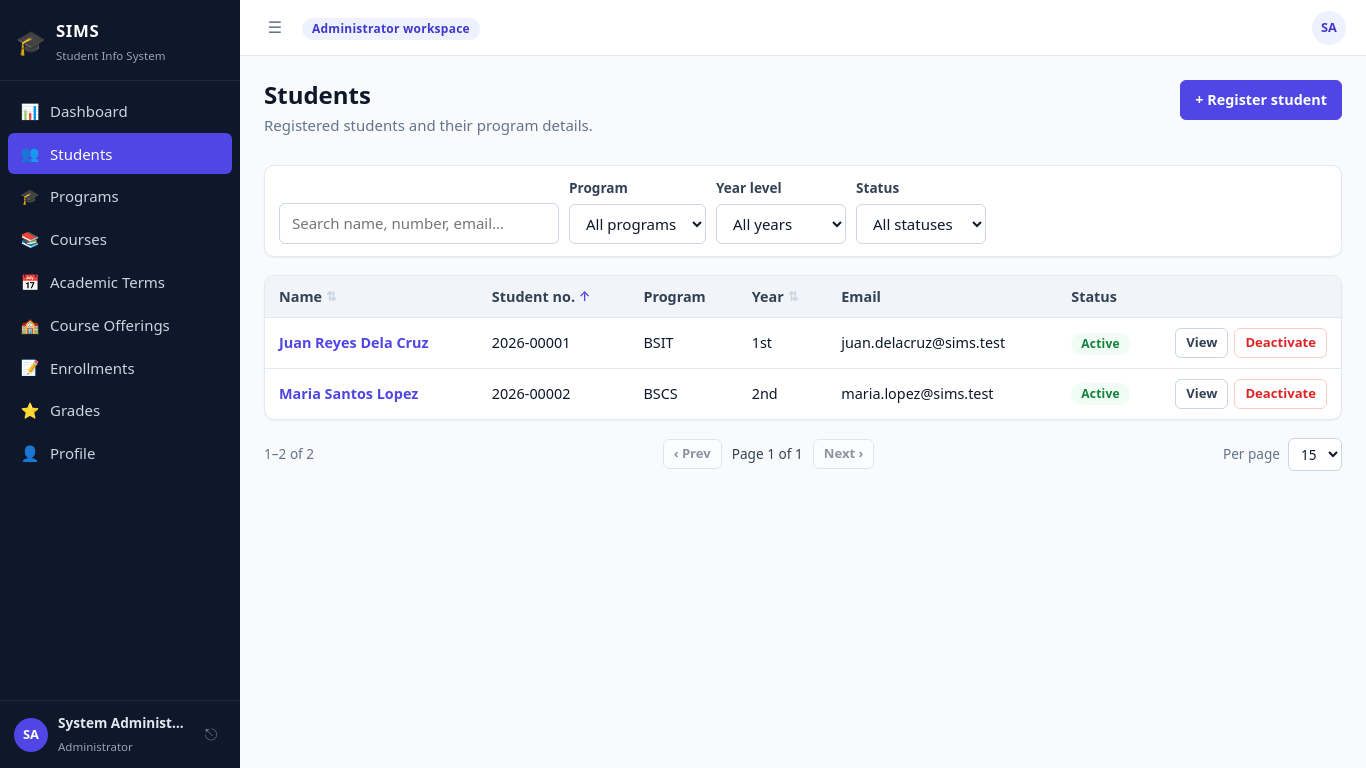
Scenario: students screen › sends the search term to the API and renders the filtered results
expect the link "Maria Santos Lopez" is shown: met, box [279,384,418,403]
Type "Maria" into the search field named "Search records" at (419, 223), box [279,203,559,244]
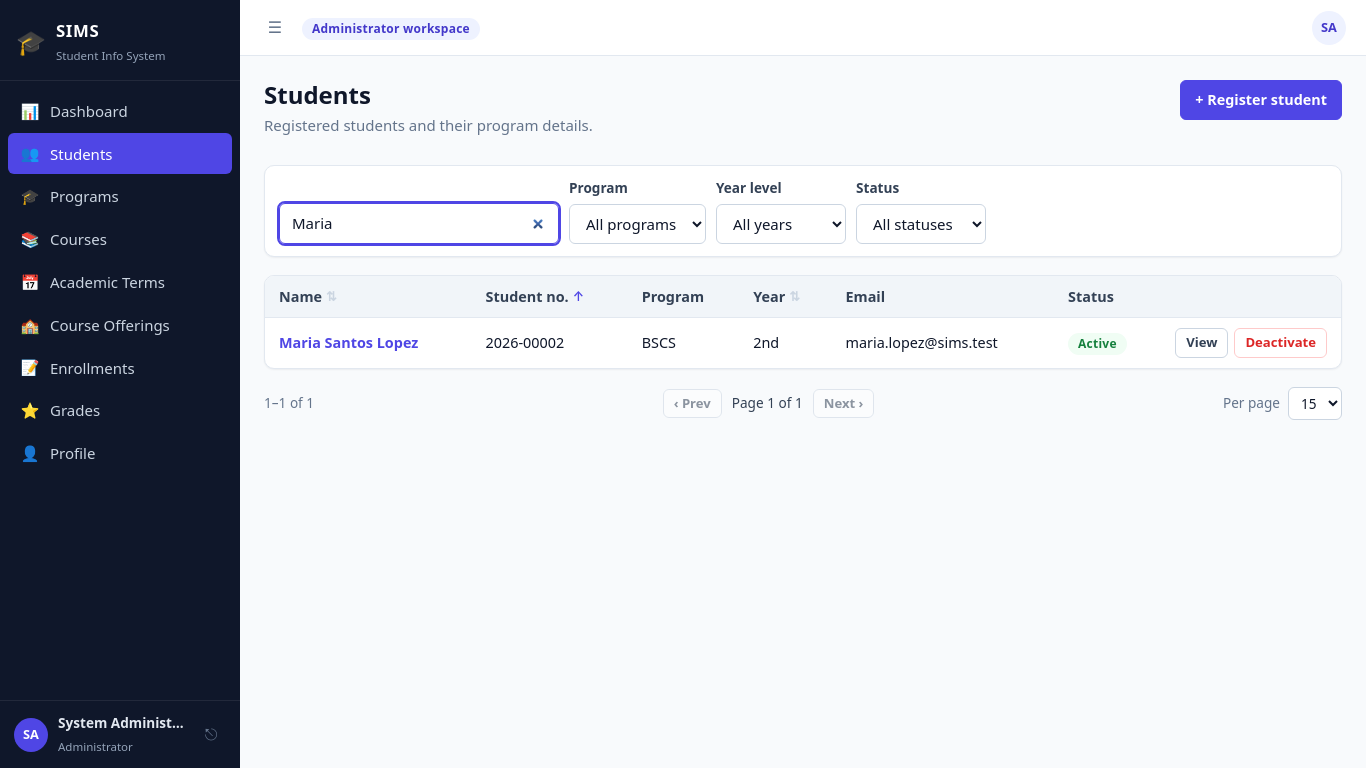
expect the link "Maria Santos Lopez" is shown: met, box [279,333,418,352]
expect the link "Juan Reyes Dela Cruz" is gone: met
